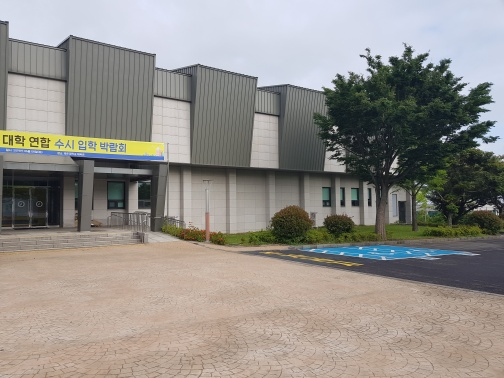Gym: (9, 28, 418, 233), (65, 34, 334, 182), (10, 158, 182, 241)
